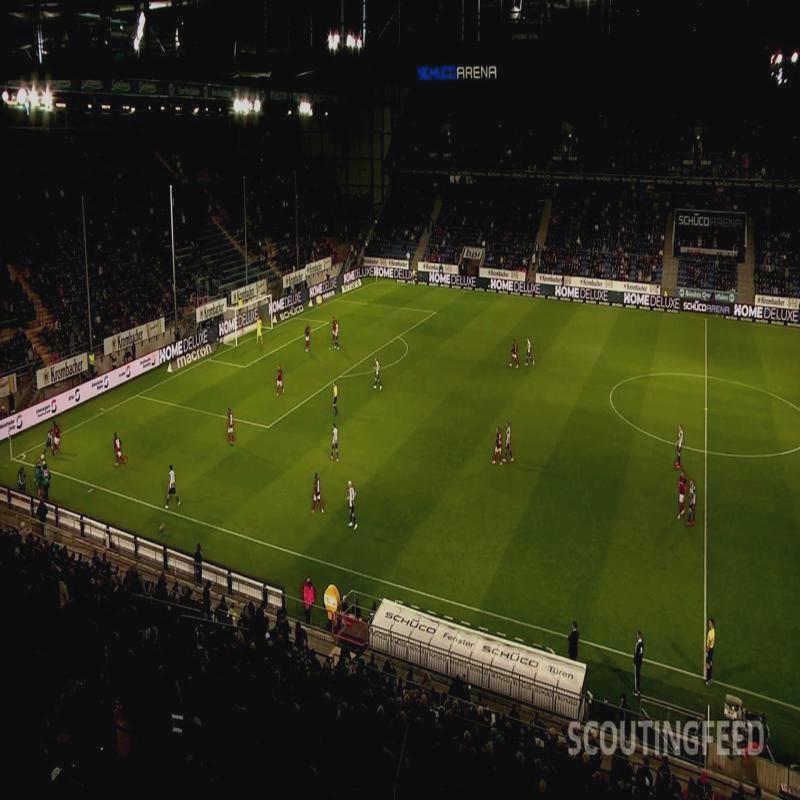1: (369, 276, 383, 290)
10: (392, 329, 407, 343)
11: (334, 370, 347, 384)
12: (262, 419, 276, 434)
13: (700, 311, 714, 325)
14: (700, 370, 714, 384)
15: (696, 444, 718, 460)
16: (692, 666, 718, 690)
2: (330, 292, 344, 306)
3: (288, 311, 302, 325)
4: (201, 353, 214, 366)
5: (130, 388, 144, 402)
7: (321, 314, 335, 328)
9: (428, 306, 442, 320)
c: (604, 388, 618, 403)
